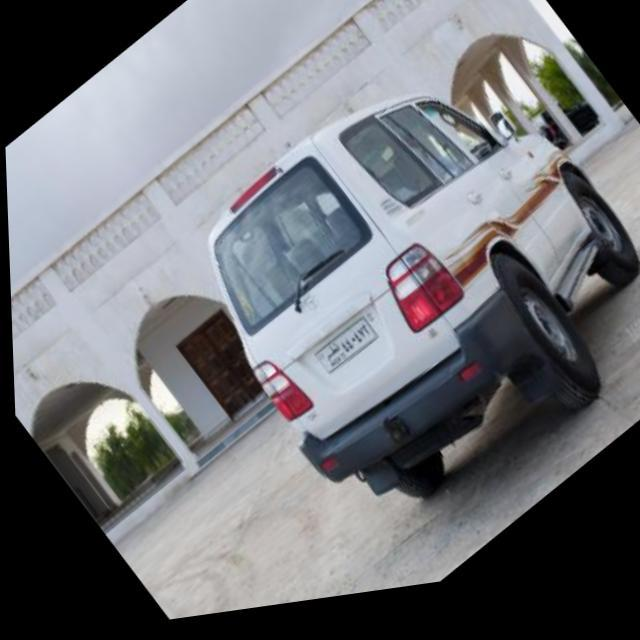license_plate: (310, 324, 376, 386)
